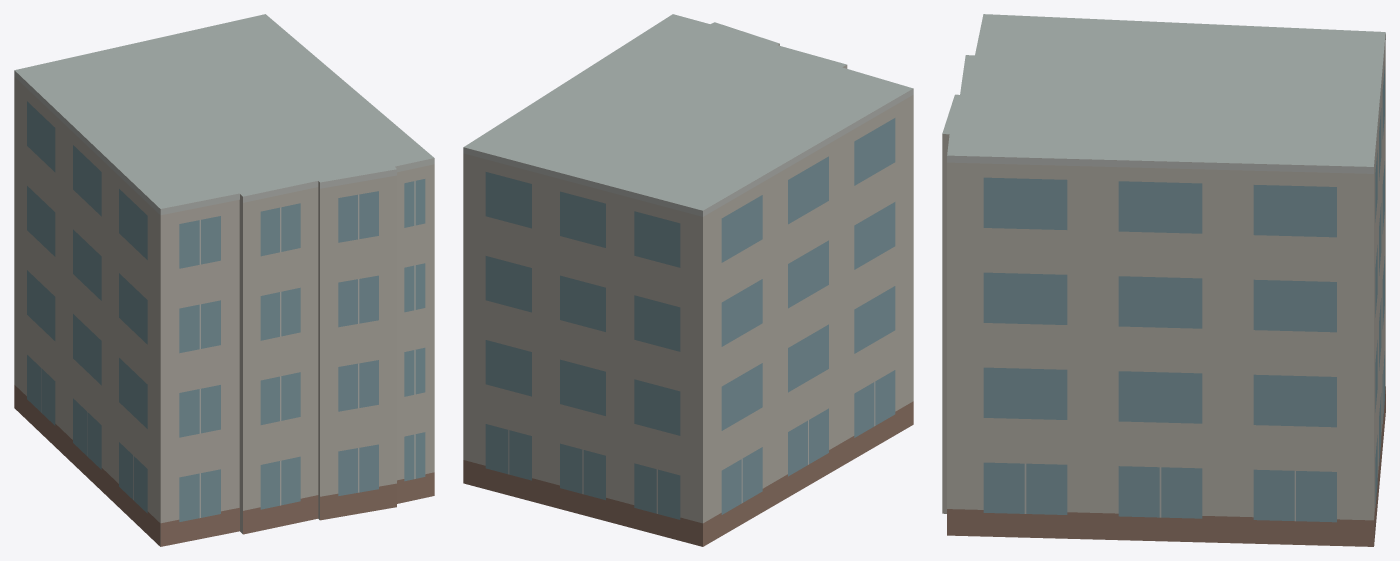
File: survey-upis-32797764.glb
The picture shows the model from 3 angles, left to right: view 1: azimuth 30°, elevation 25°; view 2: azimuth 150°, elevation 25°; view 3: azimuth 270°, elevation 25°; orthographic projection. The views are drawn at different scales.
Visible parts, largest first — view 1: survey-upis-32797764.tmp; view 2: survey-upis-32797764.tmp; view 3: survey-upis-32797764.tmp.
Part boxes in pixels (<box>): survey-upis-32797764.tmp: <box>14,14,434,546</box>; survey-upis-32797764.tmp: <box>463,14,913,546</box>; survey-upis-32797764.tmp: <box>942,14,1385,546</box>.
Size of the model in its own units: 11.41 by 13.2 by 13.98.
